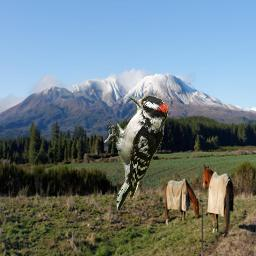Woodpecker: (104, 93, 168, 211)
